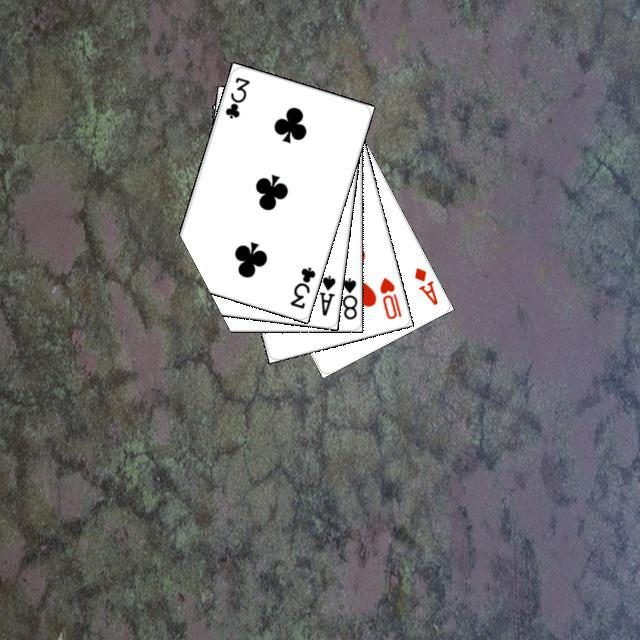10h: (375, 272, 403, 321)
3c: (285, 262, 317, 310), (220, 72, 251, 120)
8s: (337, 273, 358, 321)
Ad: (409, 262, 440, 307)
As: (314, 270, 337, 317)
